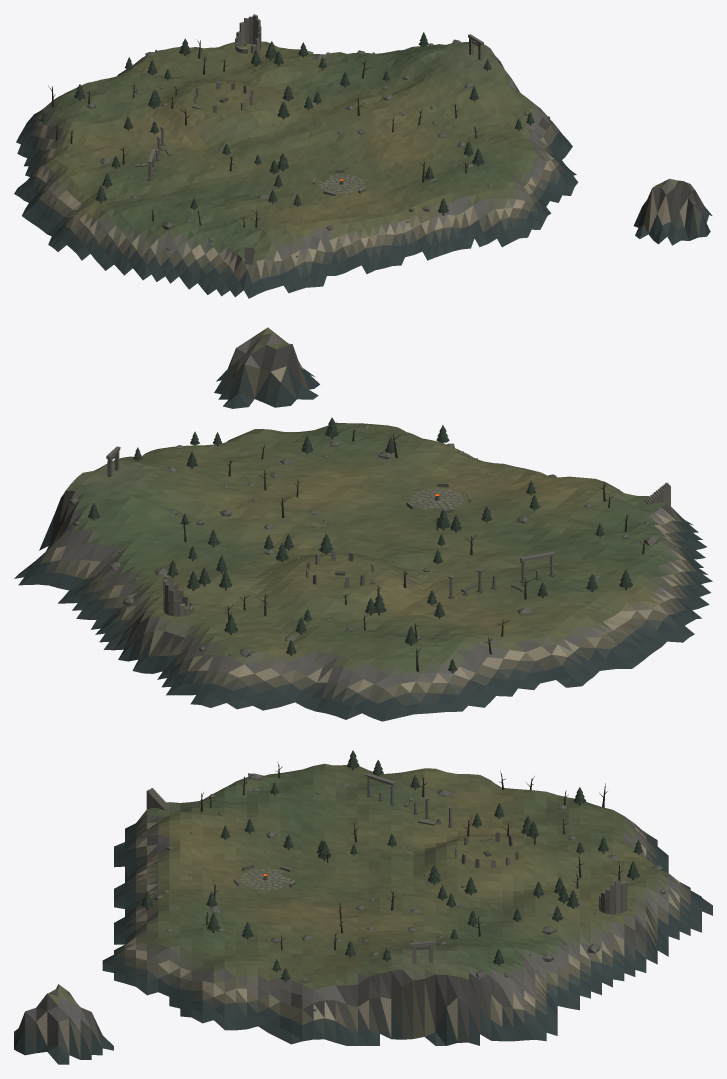
Rendered from world.glb.
3 renders of one model, top to bottom at view 1: azimuth 30°, elevation 25°; view 2: azimuth 150°, elevation 25°; view 3: azimuth 270°, elevation 25°, orthographic. The views are drawn at different scales.
Visible parts, largest first — view 1: terrain, flora, ruins, rocks; view 2: terrain, flora, ruins, rocks; view 3: terrain, flora, ruins, rocks.
Boxes of the visible parts, x1,y1,x2,y2 form: terrain: (14,41,712,298); flora: (40,32,534,227); ruins: (135,14,483,264); rocks: (63,39,549,257); terrain: (14,327,712,721); flora: (88,417,648,673); ruins: (106,446,670,616); rocks: (69,425,678,657); terrain: (14,763,712,1064); flora: (141,750,643,982); ruins: (146,773,627,963); rocks: (142,773,667,1011).
Bounding box in the file's own units: 183 × 24.87 × 189.
